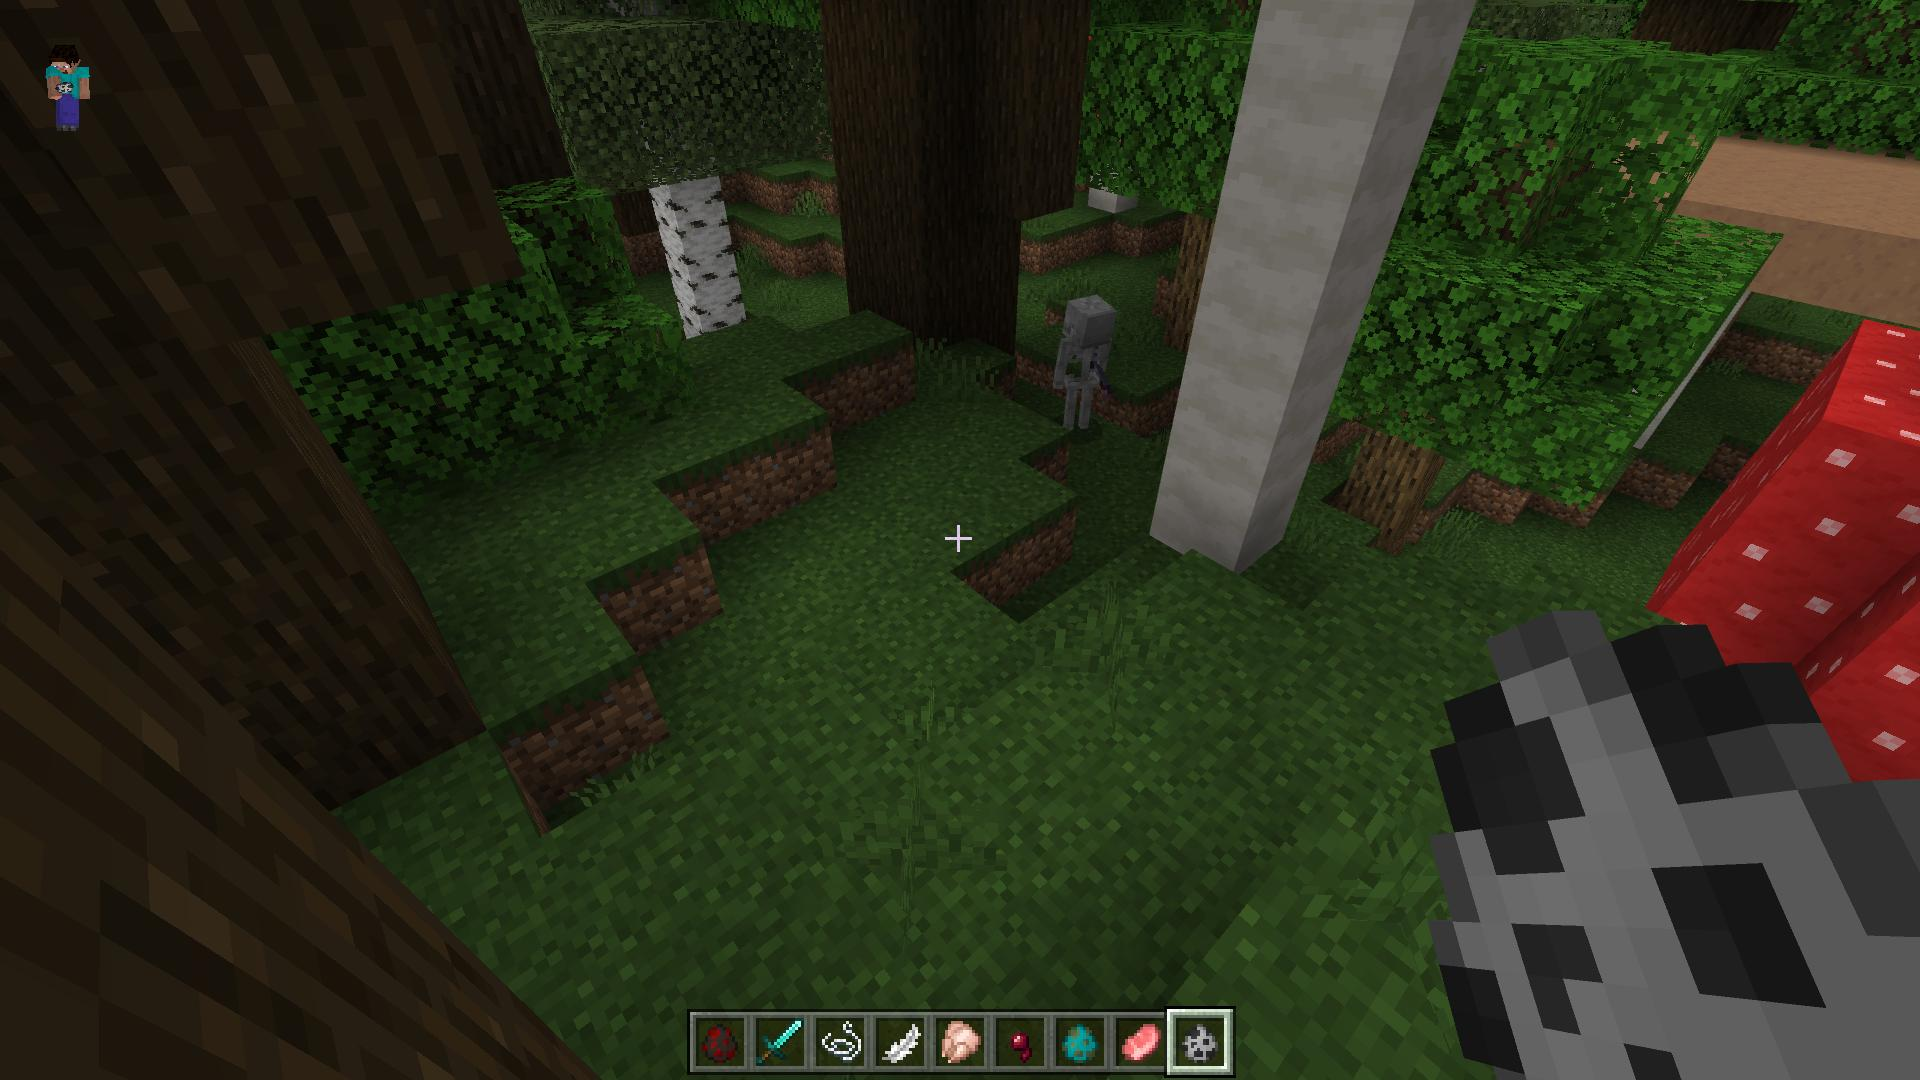skeleton: (1044, 291, 1112, 435)
